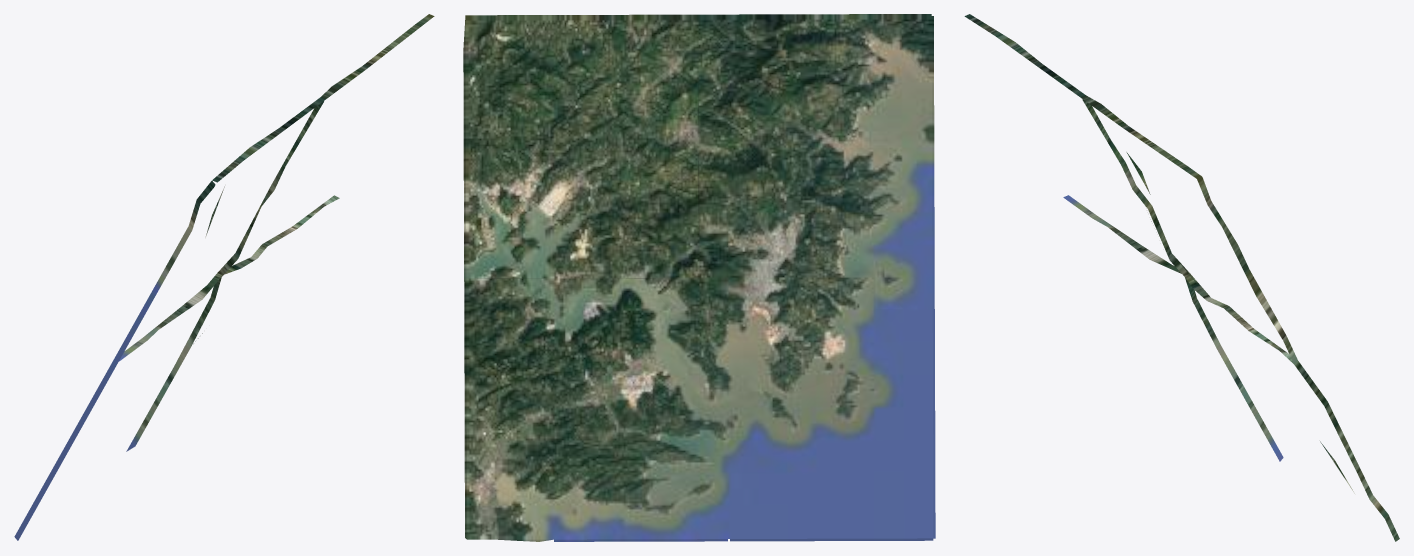
3 views of the same model, side by side, from view 1: azimuth 30°, elevation 25°; view 2: azimuth 150°, elevation 25°; view 3: azimuth 270°, elevation 25° (orthographic). The views are drawn at different scales.
Size of the model in its own units: 39273 by 35428 by 33619.
Materials: 1 (1 with a texture image).
